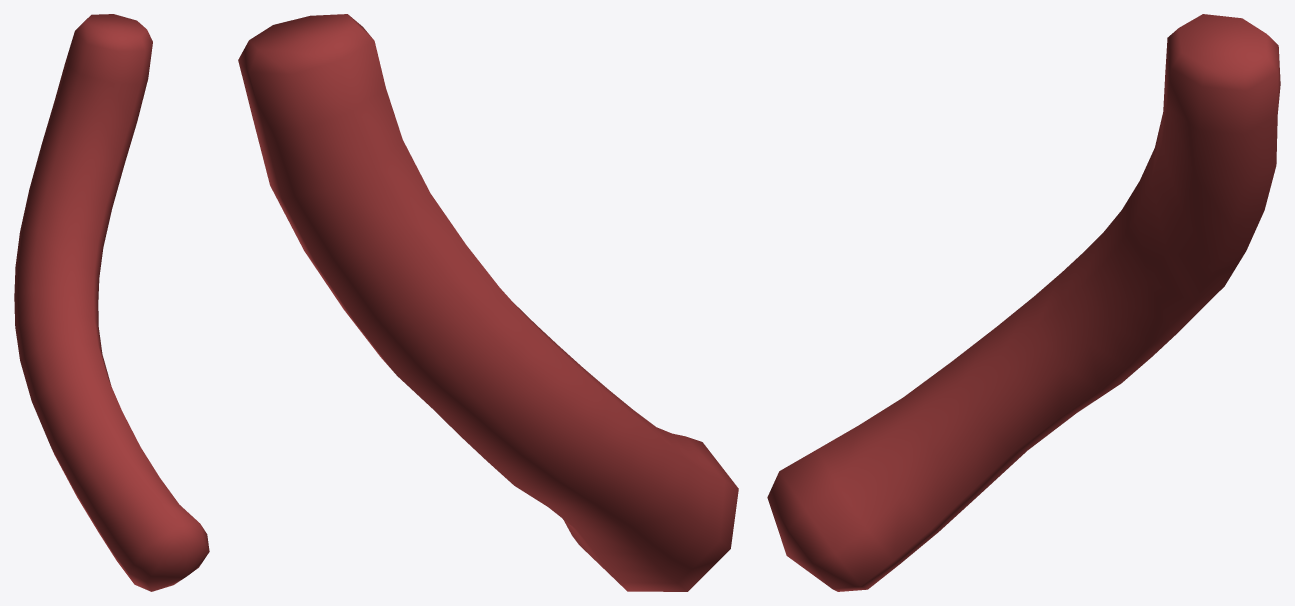
File: tendon-sheath-of-tibialis-posterior-muscle-l.glb
The picture shows the model from 3 angles, left to right: view 1: azimuth 30°, elevation 25°; view 2: azimuth 150°, elevation 25°; view 3: azimuth 270°, elevation 25°; orthographic projection. The views are drawn at different scales.
Visible parts, largest first — view 1: Tendon sheath of tibialis posterior muscle.l; view 2: Tendon sheath of tibialis posterior muscle.l; view 3: Tendon sheath of tibialis posterior muscle.l.
Part boxes in pixels (bbox=[...]): Tendon sheath of tibialis posterior muscle.l: bbox=[14, 14, 209, 591]; Tendon sheath of tibialis posterior muscle.l: bbox=[238, 14, 738, 591]; Tendon sheath of tibialis posterior muscle.l: bbox=[767, 14, 1280, 591].
Bounding box in the file's own units: 0.017 × 0.0396 × 0.03.
